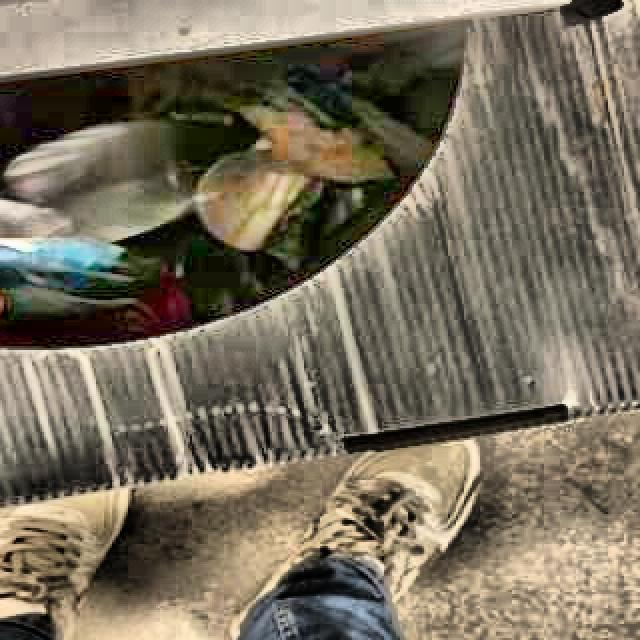plastic: (0, 192, 123, 273)
